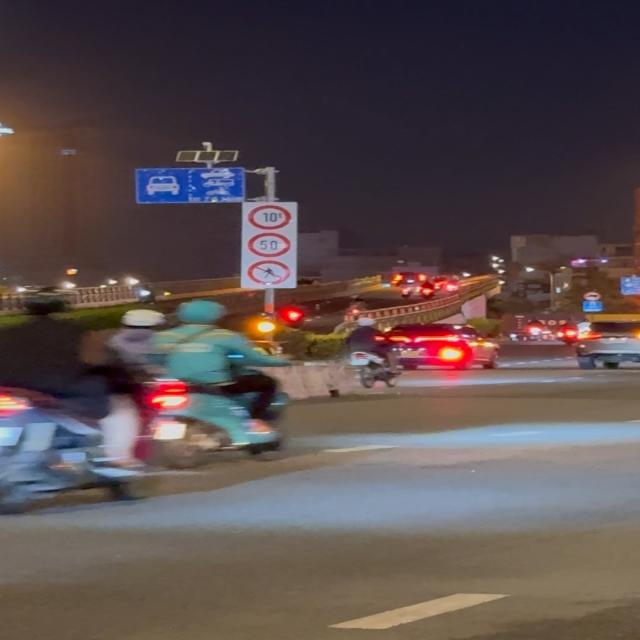Bien bao cam nguoi di bo: (245, 259, 291, 285)
Bien bao toc do toi da cho phep: (246, 231, 291, 258)
